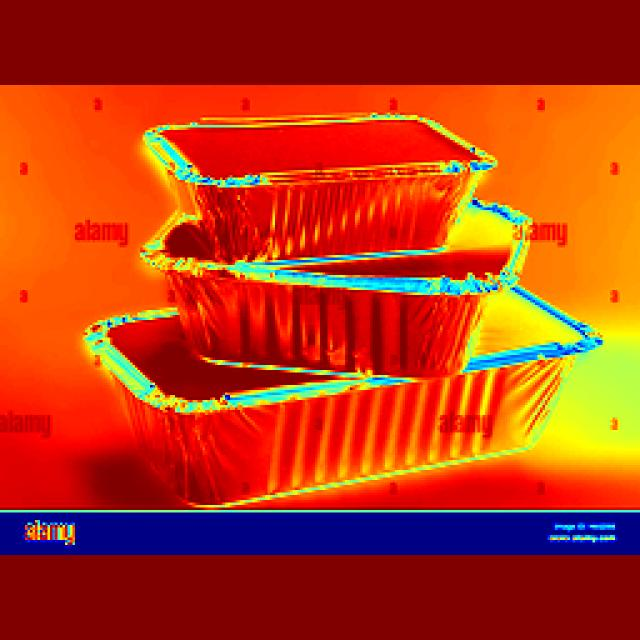Aluminium Food Cans: (93, 294, 600, 483), (157, 211, 503, 342), (142, 115, 480, 235)
